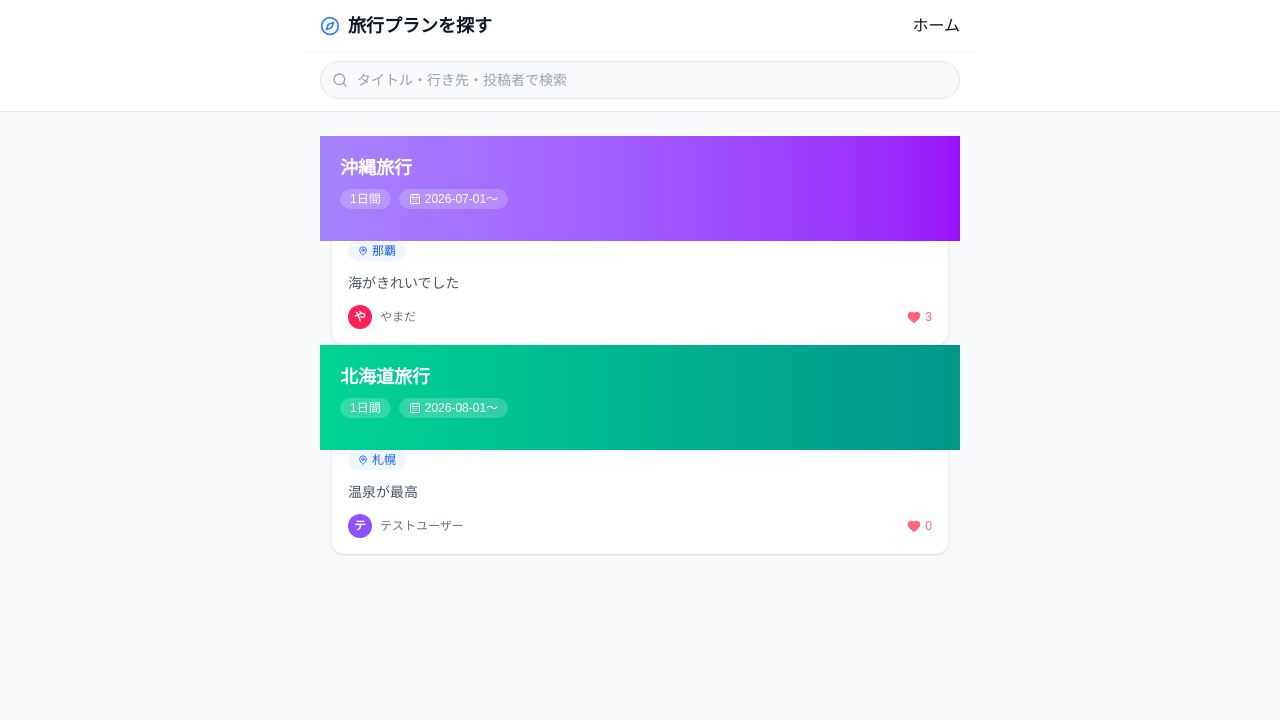
Test: FeedPage › 該当なしの検索では「該当する投稿が見つかりません」を表示する
The width and height of the screenshot is (1280, 720).
Expected: the heading "沖縄旅行" is shown, [340,158,412,178]
In the field with placeholder "タイトル・行き先・投稿者で検索": (640, 80) [320,61,960,99], type "存在しないキーワードxyz123"
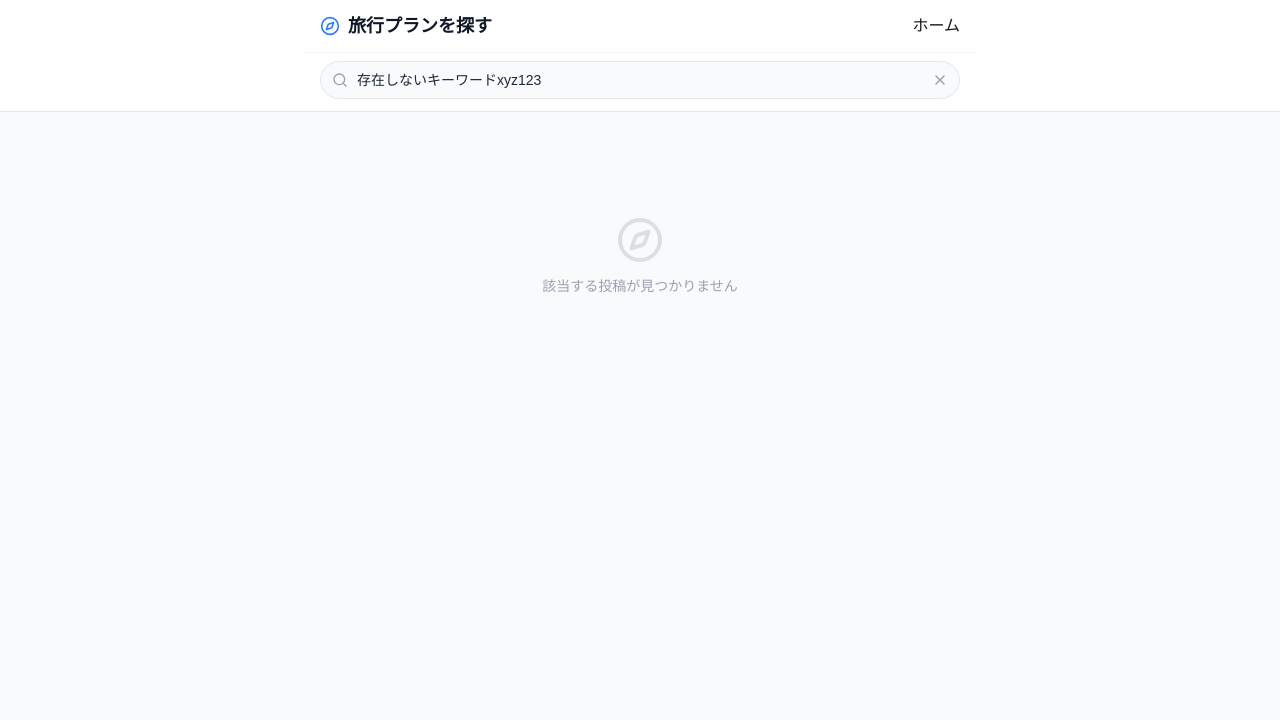
Now the text "該当する投稿が見つかりません" is shown, box [542,278,738,294]
